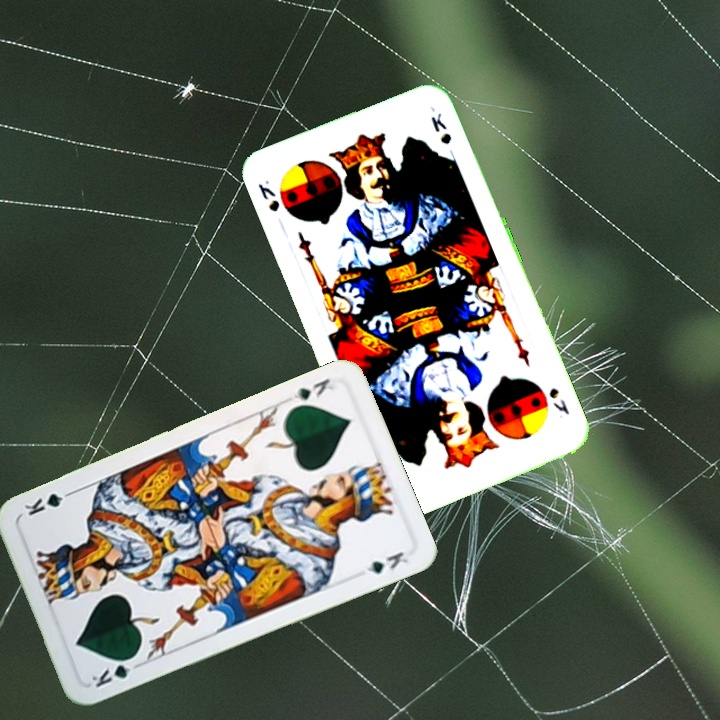GK: (87, 652, 144, 691), (289, 374, 340, 403)
SK: (254, 175, 282, 215), (545, 383, 572, 417)
